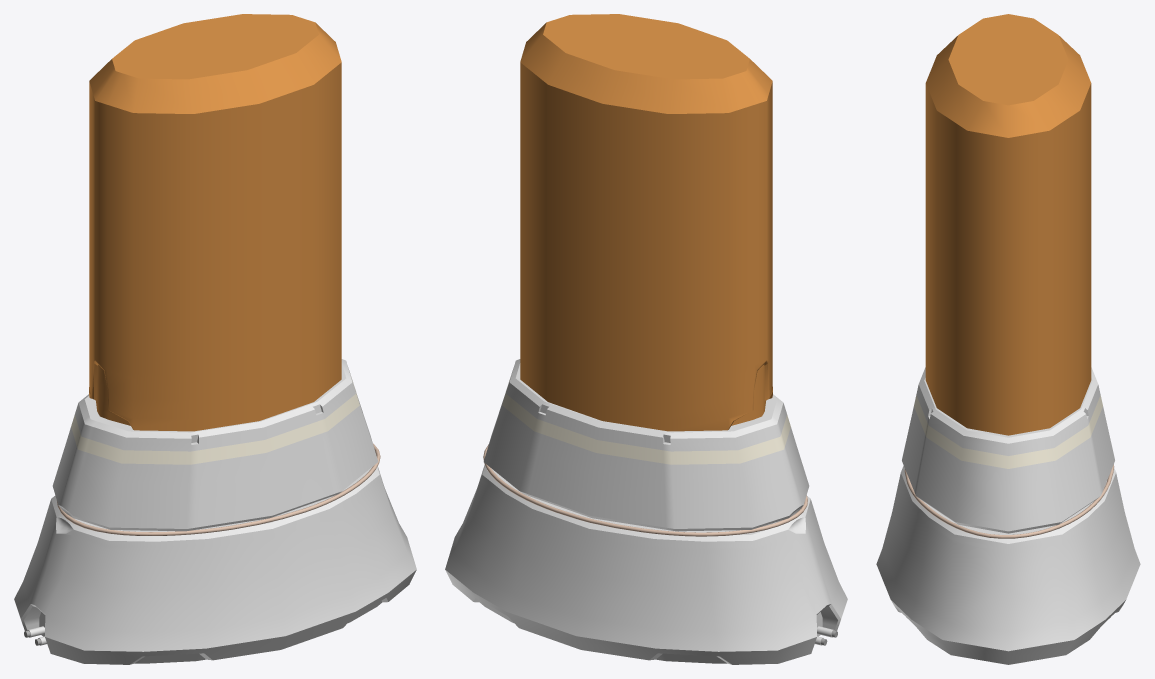
The model's file is S_SilotGraines.fbx.
3 views of the same model, side by side, from view 1: azimuth 30°, elevation 25°; view 2: azimuth 150°, elevation 25°; view 3: azimuth 270°, elevation 25° (orthographic). The views are drawn at different scales.
Parts seen in each view (by area): view 1: SilotGraines; view 2: SilotGraines; view 3: SilotGraines.
Boxes of the visible parts, left/top/right/bottom form: SilotGraines: left=14, top=14, right=416, bottom=664; SilotGraines: left=445, top=14, right=847, bottom=664; SilotGraines: left=876, top=14, right=1140, bottom=664.
Size of what is drawn, in the model's own units: 473 by 668 by 307.
